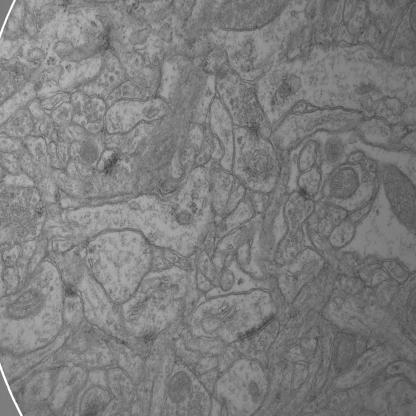mitochondria: (381, 162, 416, 231), (4, 288, 48, 318), (164, 369, 192, 406), (331, 166, 360, 201), (78, 141, 99, 164), (245, 380, 260, 403)
